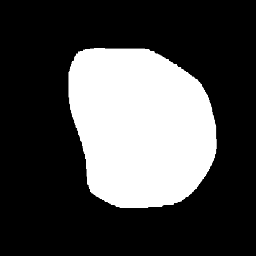mass: (66, 49, 214, 216)
